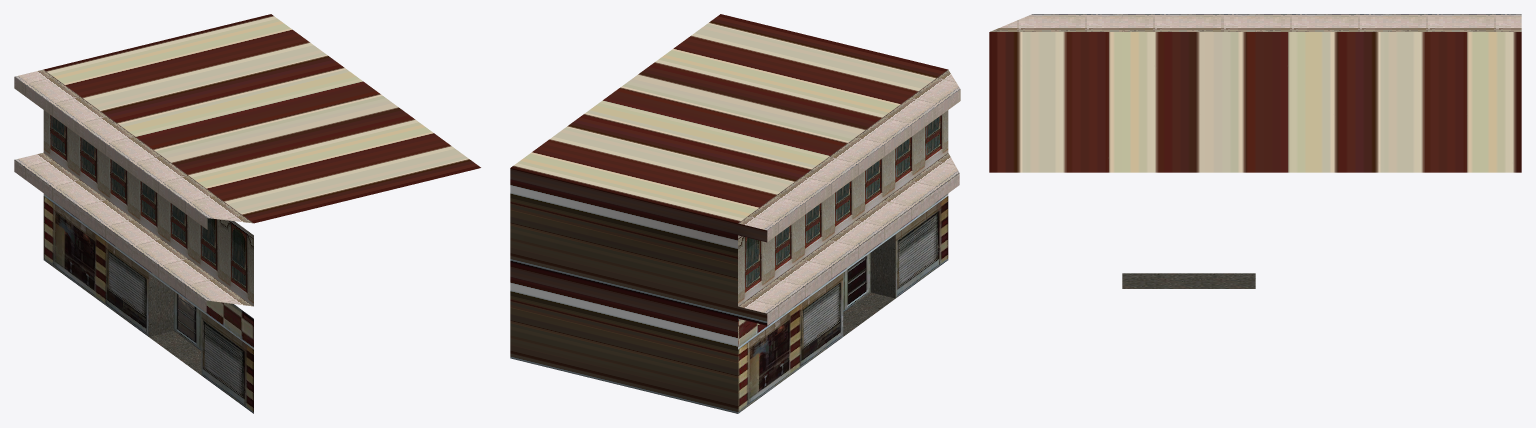
The model's file is M2Zone3_LShapeBlockA.glb.
3 renders of one model, left to right at view 1: azimuth 30°, elevation 25°; view 2: azimuth 150°, elevation 25°; view 3: azimuth 270°, elevation 25°, orthographic. The views are drawn at different scales.
Visible parts, largest first — view 1: M2ZONE3_LSHAPEBLOCKA; view 2: M2ZONE3_LSHAPEBLOCKA; view 3: M2ZONE3_LSHAPEBLOCKA.
Boxes of the visible parts, x1,y1,x2,y2 form: M2ZONE3_LSHAPEBLOCKA: (14, 14, 480, 413); M2ZONE3_LSHAPEBLOCKA: (510, 14, 960, 413); M2ZONE3_LSHAPEBLOCKA: (989, 14, 1521, 288).
Size of the model in its own units: 11.29 by 8 by 16.
4 materials, 4 textured.
